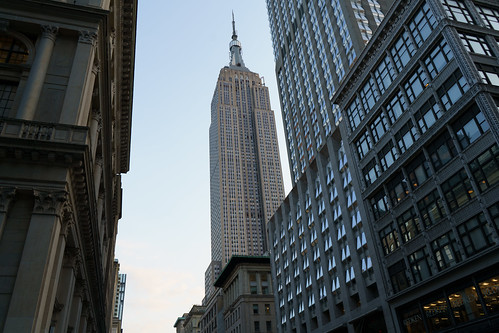building: (364, 1, 495, 331), (1, 1, 131, 333), (271, 109, 383, 333), (207, 15, 285, 333), (268, 1, 395, 177)
sky: (126, 1, 212, 328)
